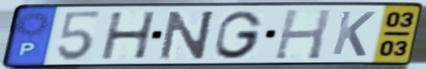5: (54, 9, 105, 63)
G: (212, 9, 265, 61)
H: (271, 7, 334, 61), (99, 10, 159, 62)
K: (329, 9, 378, 59)
N: (157, 9, 218, 62)
